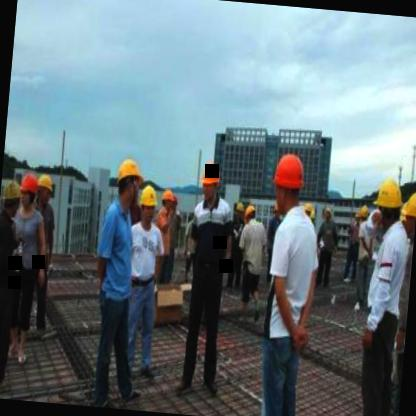helmet: (268, 145, 309, 216), (110, 151, 146, 212), (372, 172, 405, 232), (197, 155, 225, 203), (18, 170, 40, 215), (138, 186, 160, 227), (0, 180, 24, 216), (36, 172, 57, 210), (400, 188, 416, 237), (242, 200, 260, 232), (160, 186, 176, 214), (359, 200, 372, 227), (304, 198, 314, 218)
